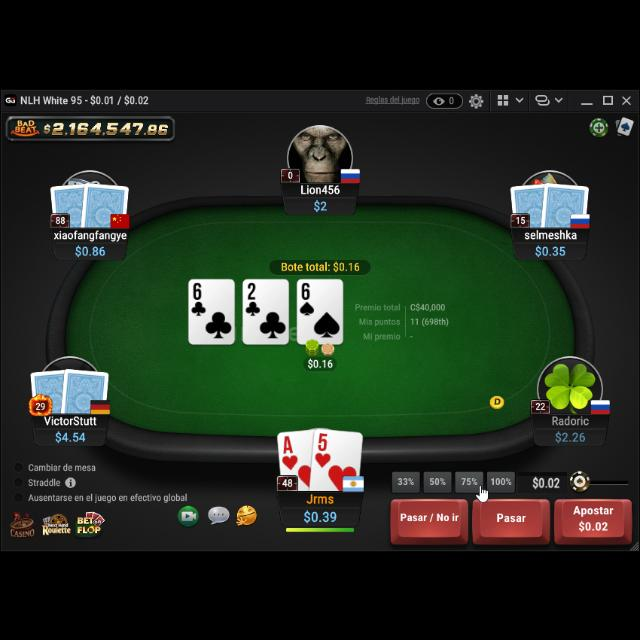2c: (244, 278, 262, 316)
5h: (314, 429, 332, 467)
6c: (190, 279, 208, 315)
6s: (298, 279, 316, 315)
Ah: (280, 434, 300, 470)
bet_text: (306, 353, 334, 367)
card_back: (538, 178, 592, 230), (60, 362, 110, 412), (80, 178, 130, 226), (509, 180, 555, 227), (49, 178, 93, 226), (30, 364, 70, 412)
dealer: (488, 389, 506, 406)
hero_active: (388, 493, 636, 542)
pot_text: (280, 258, 362, 270)
stack_text: (302, 502, 338, 522), (534, 241, 566, 255), (75, 241, 107, 255), (554, 426, 586, 440), (54, 427, 86, 439), (312, 195, 330, 209)
